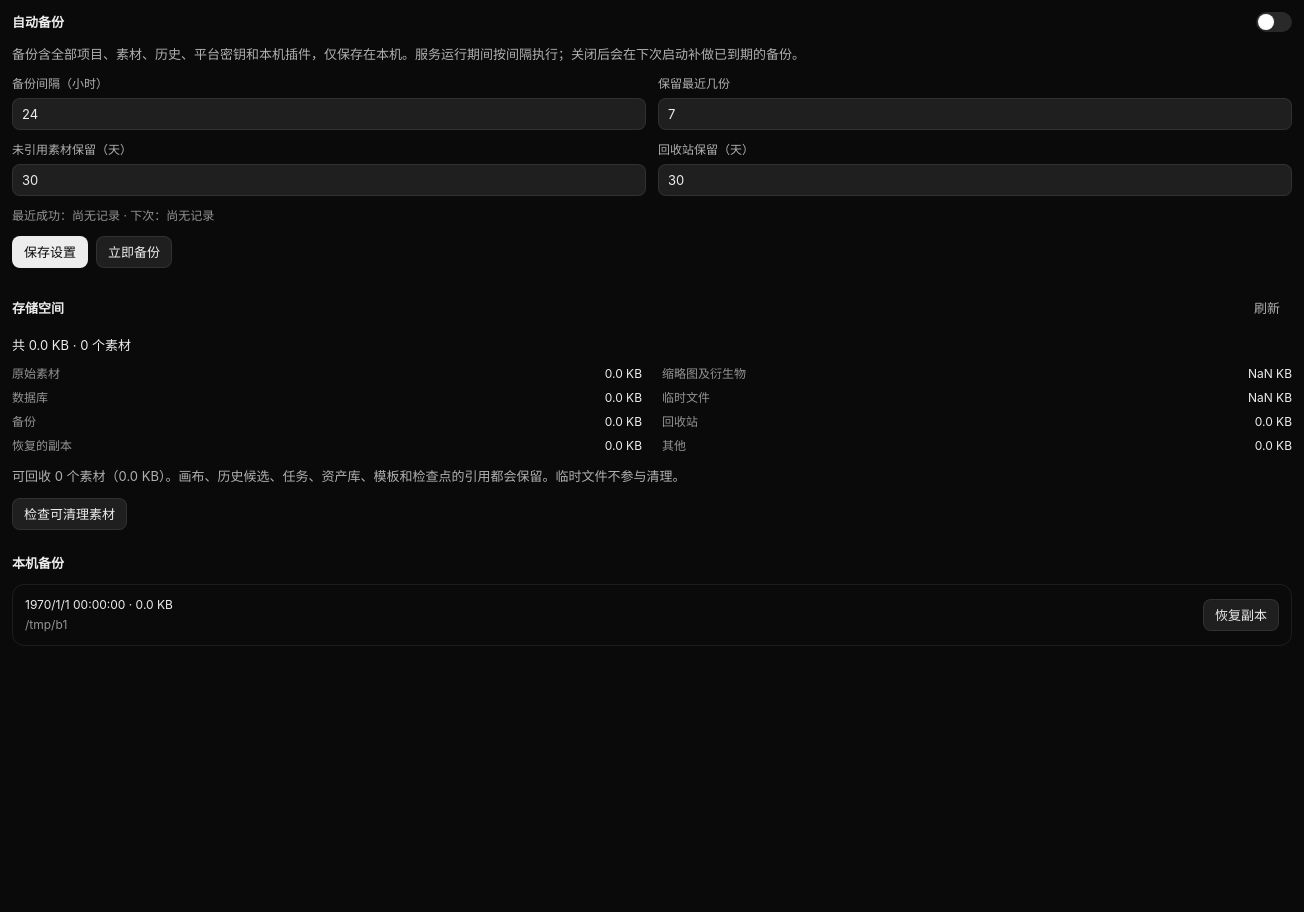
恢复副本的反馈 › 恢复失败可重试，成功后写出恢复到的目录与后续说明
Click the button "恢复副本" at (1241, 615), box [1203,599,1279,631]
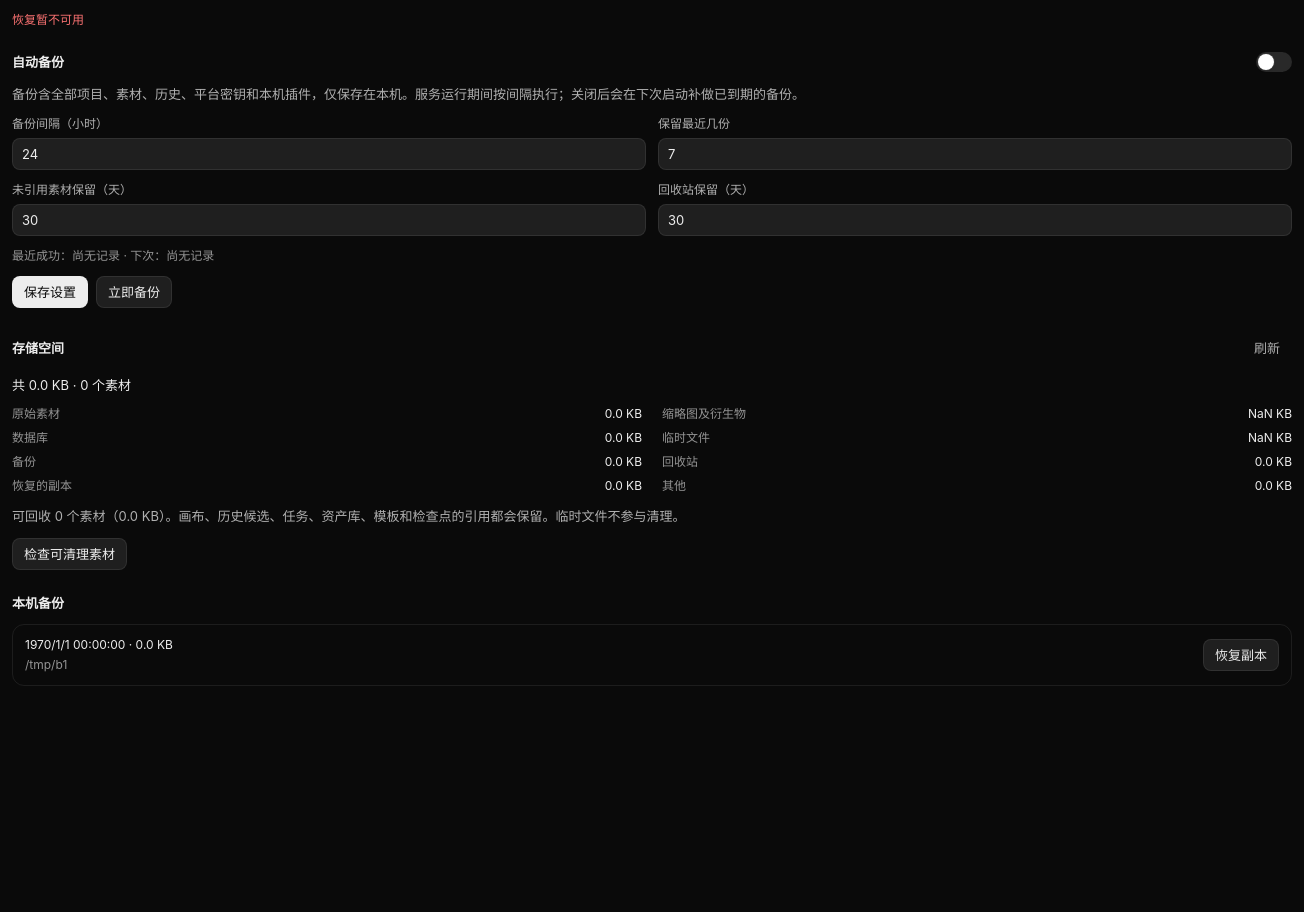
Expected: the message reads "恢复暂不可用", [12,12,84,27]
Click the button "恢复副本" at (1241, 655), box [1203,639,1279,671]
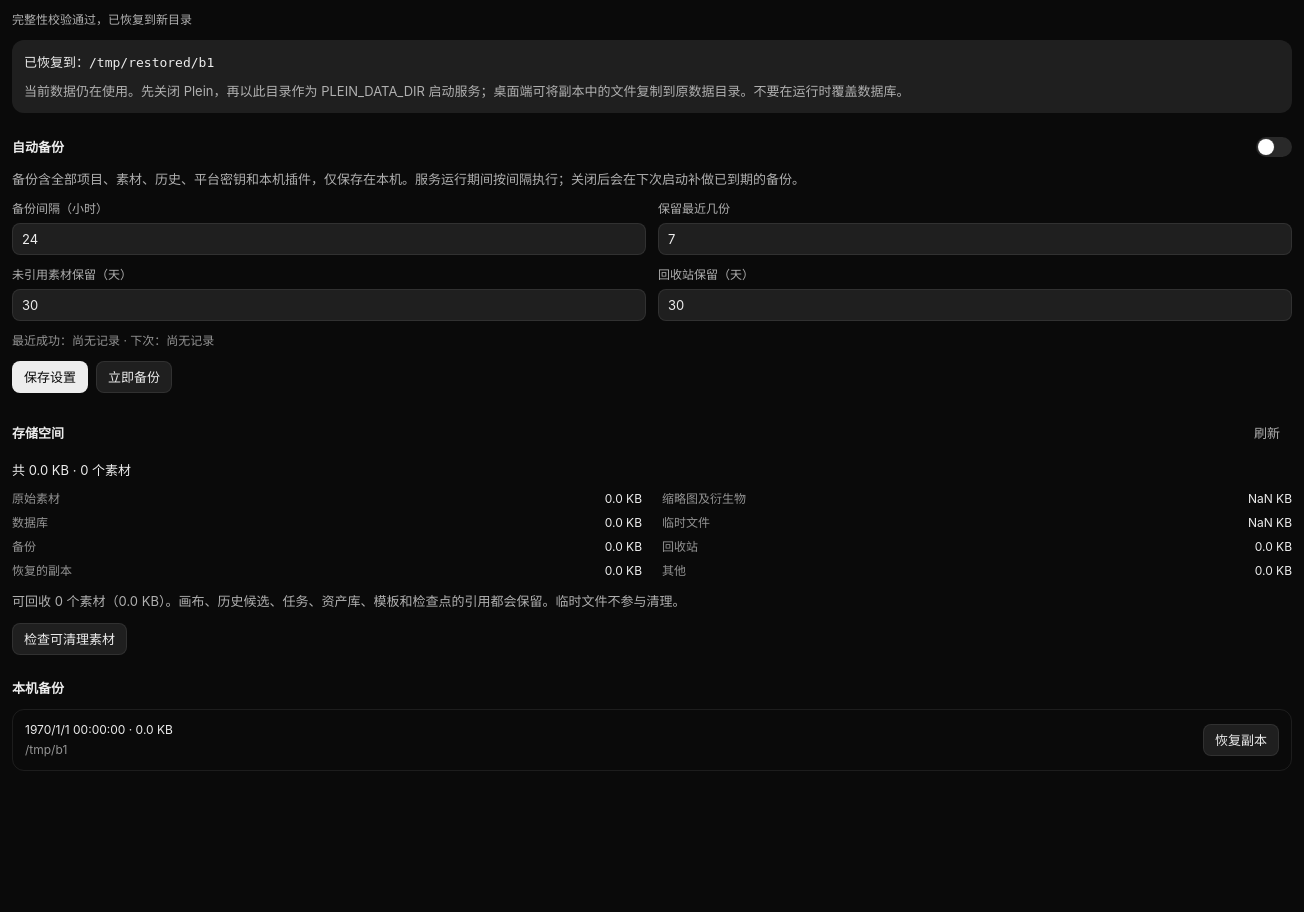
Expected: the text "已恢复到：/tmp/restored/b1" is shown, [24,54,214,70]
Expected: the text "当前数据仍在使用" is shown, [24,83,910,99]
